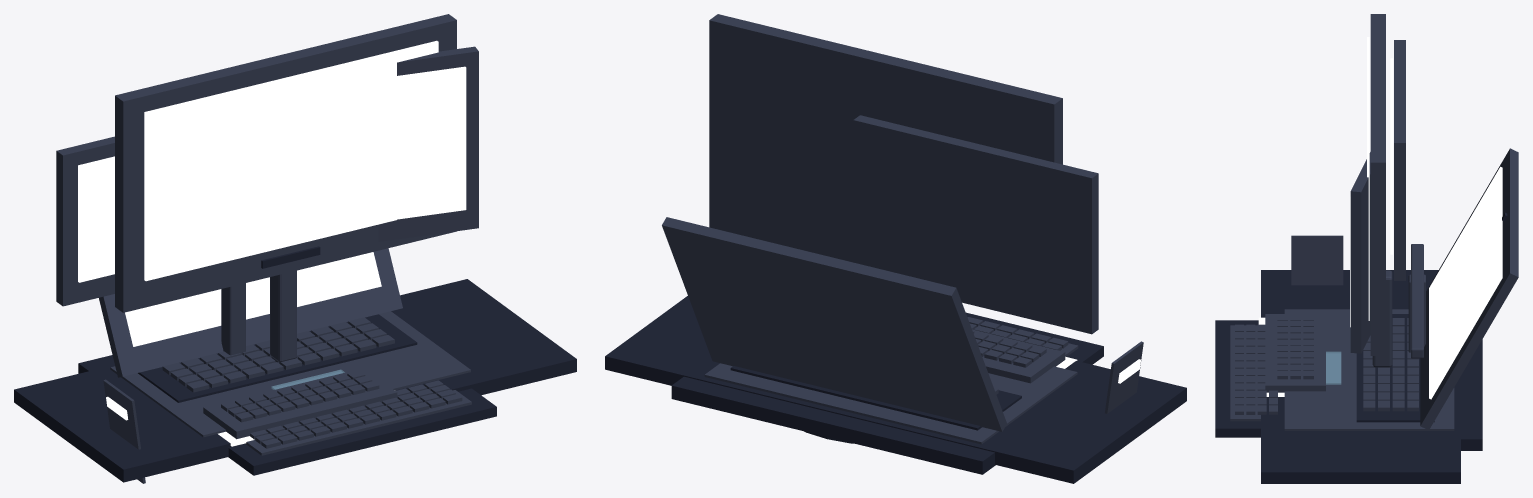
The model's file is experience.glb.
3 renders of one model, left to right at view 1: azimuth 30°, elevation 25°; view 2: azimuth 150°, elevation 25°; view 3: azimuth 270°, elevation 25°, orthographic. The views are drawn at different scales.
Parts seen in each view (by area): view 1: att_screen, dev_desk, att_bezel, dev_screen_r, jun_bezel, jun_screen, jun_palm, jun_keycaps, dev_bezel_r, att_keys, dev_bezel_l, dev_screen_l (+8 smaller); view 2: att_bezel, jun_bezel, dev_bezel_l, dev_desk, jun_base, jun_palm, jun_keys, dev_keys, dev_keycaps, att_badge, att_keycaps, att_keys; view 3: dev_desk, jun_screen, jun_palm, jun_bezel, att_bezel, dev_bezel_r, jun_keycaps, dev_bezel_l, dev_keys, att_keycaps, att_badge, att_keys (+10 smaller).
Boxes of the visible parts, bbox=[...] form: att_screen: bbox=[144, 40, 438, 281]; dev_desk: bbox=[14, 279, 576, 482]; att_bezel: bbox=[115, 14, 456, 312]; dev_screen_r: bbox=[381, 66, 466, 221]; jun_bezel: bbox=[99, 248, 402, 377]; jun_screen: bbox=[125, 252, 381, 346]; jun_palm: bbox=[110, 311, 470, 437]; jun_keycaps: bbox=[162, 317, 394, 392]; dev_bezel_r: bbox=[378, 46, 478, 241]; att_keys: bbox=[228, 388, 496, 475]; dev_bezel_l: bbox=[56, 136, 114, 306]; dev_screen_l: bbox=[78, 156, 114, 282]; att_bezel: bbox=[709, 14, 1062, 262]; jun_bezel: bbox=[662, 217, 1006, 431]; dev_bezel_l: bbox=[853, 115, 1098, 334]; dev_desk: bbox=[605, 296, 1186, 483]; jun_base: bbox=[671, 376, 995, 474]; jun_palm: bbox=[704, 363, 1077, 444]; jun_keys: bbox=[730, 366, 1021, 430]; dev_keys: bbox=[972, 329, 1065, 383]; dev_keycaps: bbox=[972, 331, 1046, 367]; att_badge: bbox=[1105, 341, 1143, 413]; att_keycaps: bbox=[967, 317, 1068, 350]; att_keys: bbox=[966, 312, 1103, 364]; dev_desk: bbox=[1261, 270, 1460, 483]; jun_screen: bbox=[1429, 166, 1502, 399]; jun_palm: bbox=[1284, 309, 1454, 430]; jun_bezel: bbox=[1420, 148, 1518, 430]; att_bezel: bbox=[1370, 14, 1385, 355]; dev_bezel_r: bbox=[1350, 152, 1370, 353]; jun_keycaps: bbox=[1363, 318, 1418, 411]; dev_bezel_l: bbox=[1394, 40, 1405, 280]; dev_keys: bbox=[1265, 314, 1325, 392]; att_keycaps: bbox=[1235, 324, 1277, 414]; att_badge: bbox=[1291, 235, 1343, 285]; att_keys: bbox=[1215, 320, 1260, 437].
Bounding box in the file's own units: 2.2 × 1.6 × 1.4.
